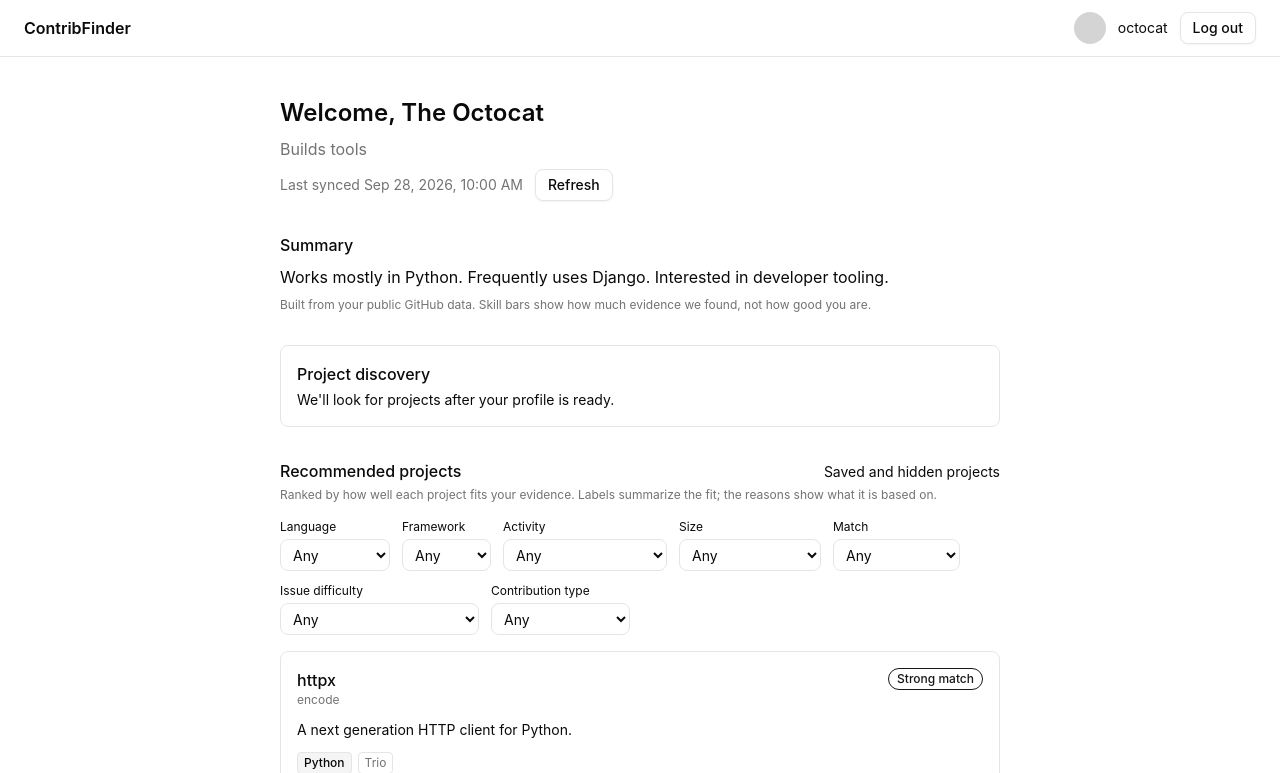
recommendation cards › filters through the URL
Select "Python" in the dropdown labelled "Language" at {"x": 335, "y": 555}, box [280, 539, 390, 571]
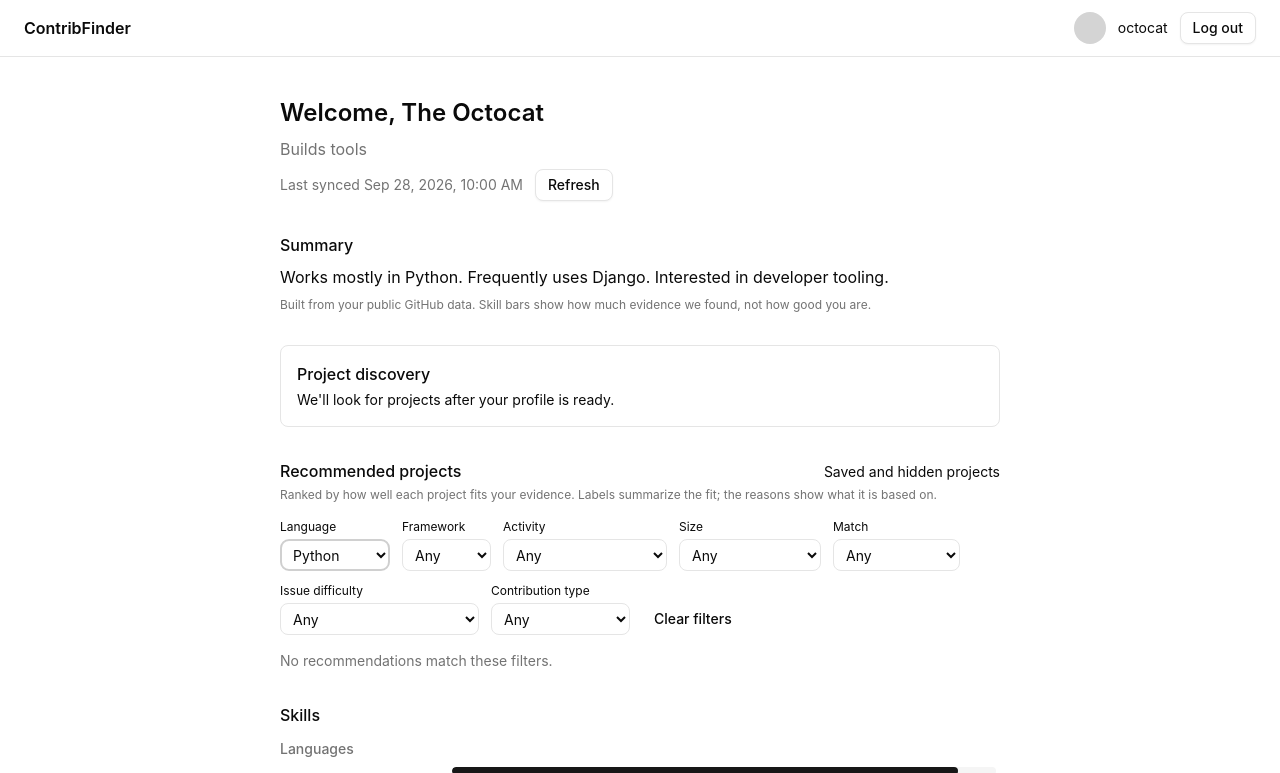
expect the text "No recommendations match these filters." is shown: met, box [280, 652, 553, 669]
